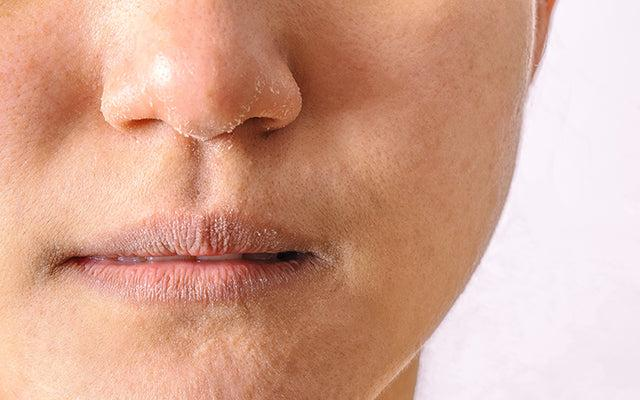Dry-Skin: (77, 207, 290, 310), (85, 70, 298, 161), (122, 352, 353, 396), (306, 224, 374, 292)
